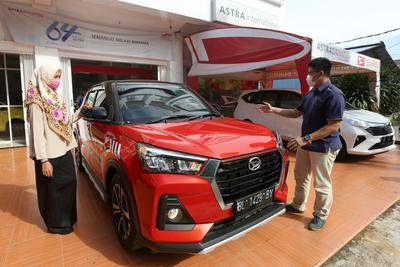mobil: (68, 75, 285, 240)
